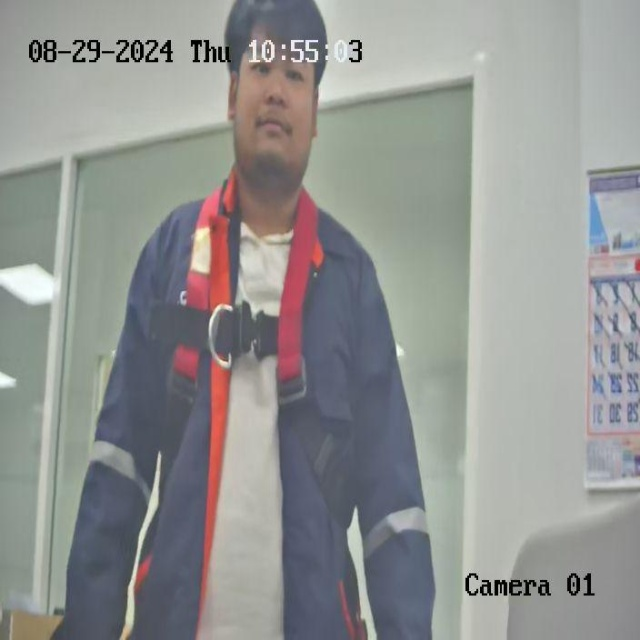Arnes_seguridad: (159, 185, 352, 521)
